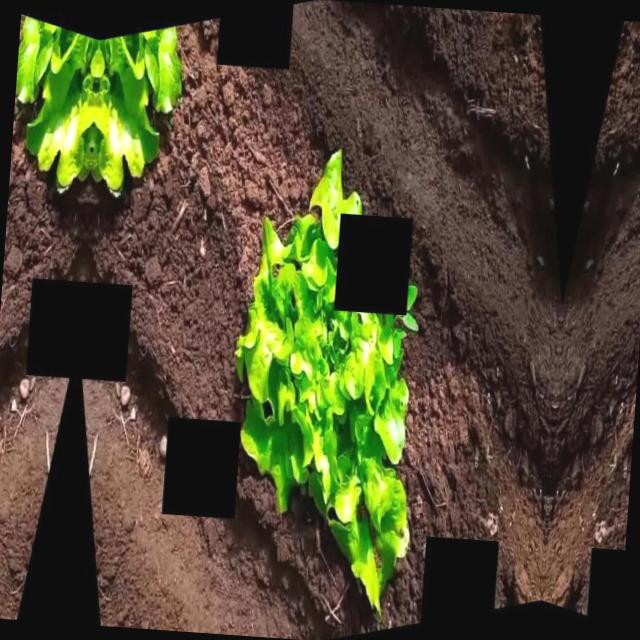healthy: (219, 139, 436, 612), (88, 18, 188, 204), (9, 11, 100, 198)
